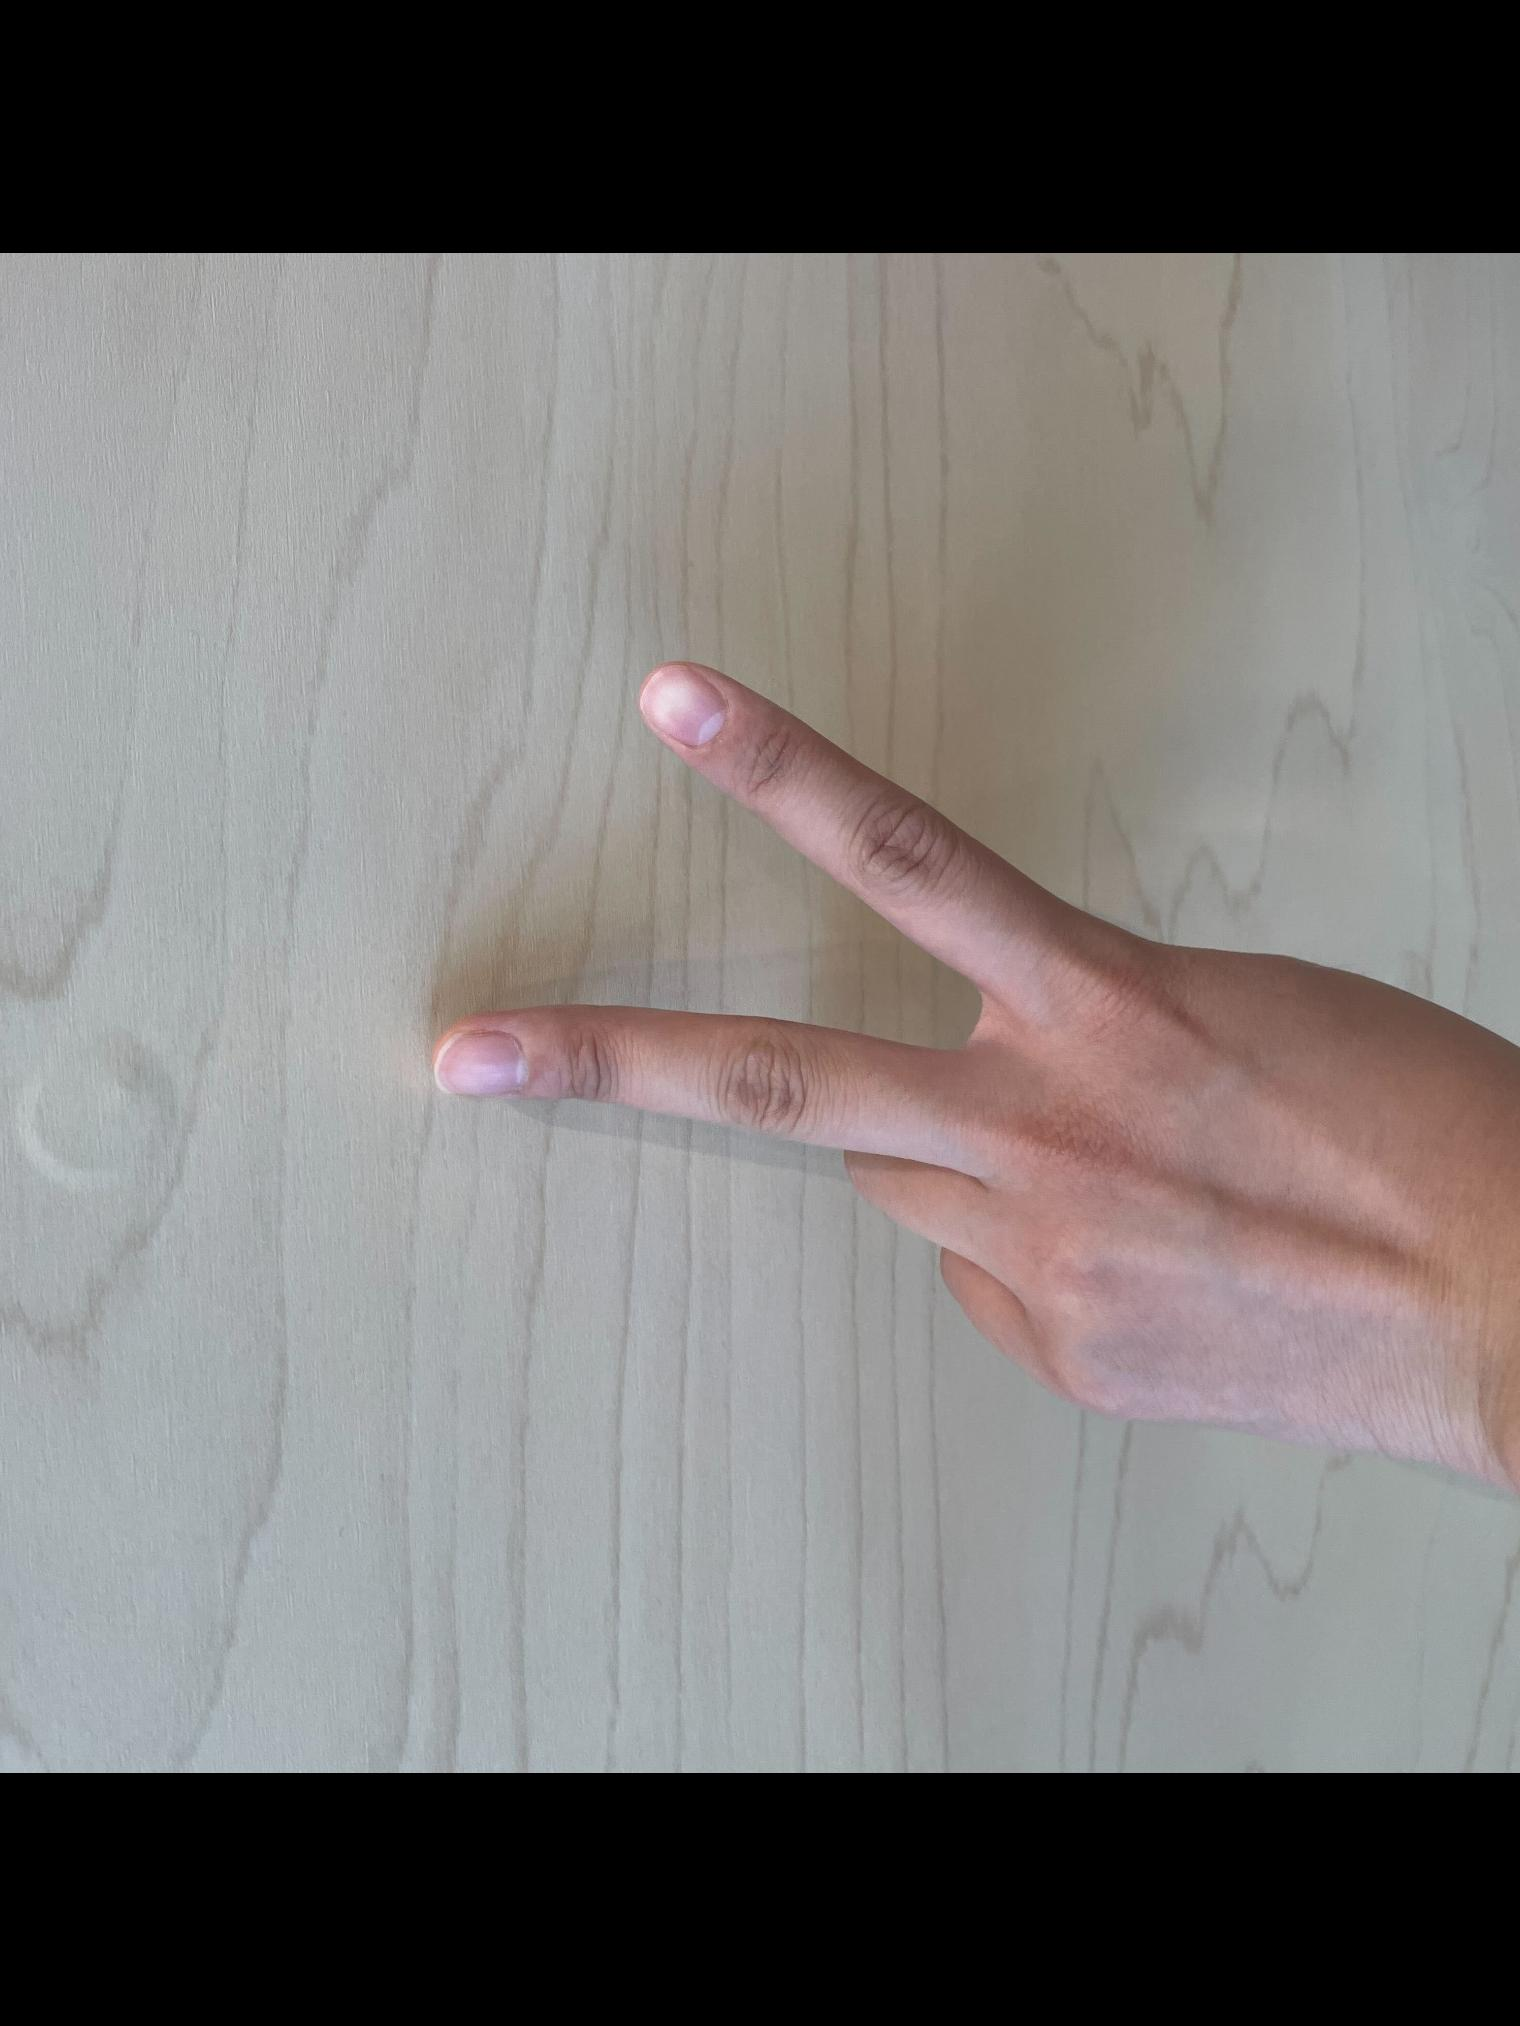v: (403, 671, 1520, 1522)
